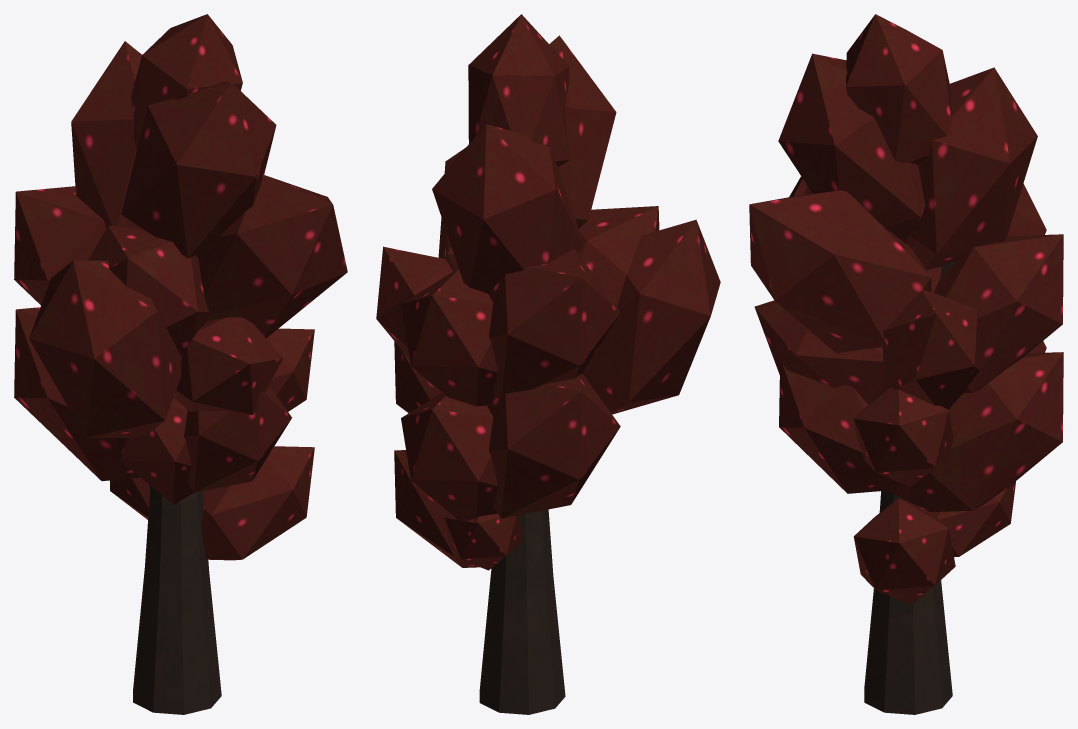
File: tree-purple-red-flowers_9.fbx
3 renders of one model, left to right at view 1: azimuth 30°, elevation 25°; view 2: azimuth 150°, elevation 25°; view 3: azimuth 270°, elevation 25°, orthographic. The views are drawn at different scales.
Parts seen in each view (by area): view 1: Icosphere.140; view 2: Icosphere.140; view 3: Icosphere.140.
Part boxes in pixels (bbox=[...]): Icosphere.140: bbox=[14, 14, 347, 714]; Icosphere.140: bbox=[376, 14, 720, 714]; Icosphere.140: bbox=[749, 14, 1063, 714].
Bounding box in the file's own units: 180 × 387 × 160.
